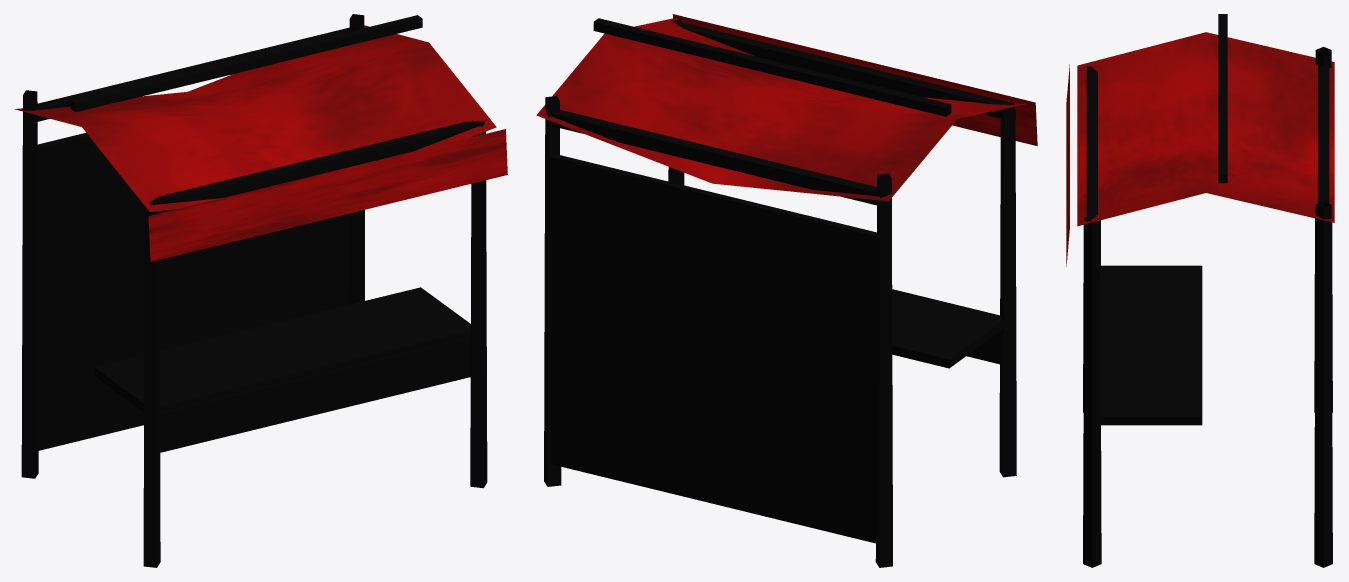
The model's file is prop_haven_stall_a_lod2.glb.
3 views of the same model, side by side, from view 1: azimuth 30°, elevation 25°; view 2: azimuth 150°, elevation 25°; view 3: azimuth 270°, elevation 25° (orthographic). The views are drawn at different scales.
Parts seen in each view (by area): view 1: prop_haven_stall_a_lod2; view 2: prop_haven_stall_a_lod2; view 3: prop_haven_stall_a_lod2.
Boxes of the visible parts, left/top/right/bottom form: prop_haven_stall_a_lod2: left=14, top=14, right=507, bottom=567; prop_haven_stall_a_lod2: left=536, top=14, right=1037, bottom=567; prop_haven_stall_a_lod2: left=1066, top=14, right=1334, bottom=567.
Bounding box in the file's own units: 2.1 × 2.33 × 1.44.
Materials: 1 (1 with a texture image).
